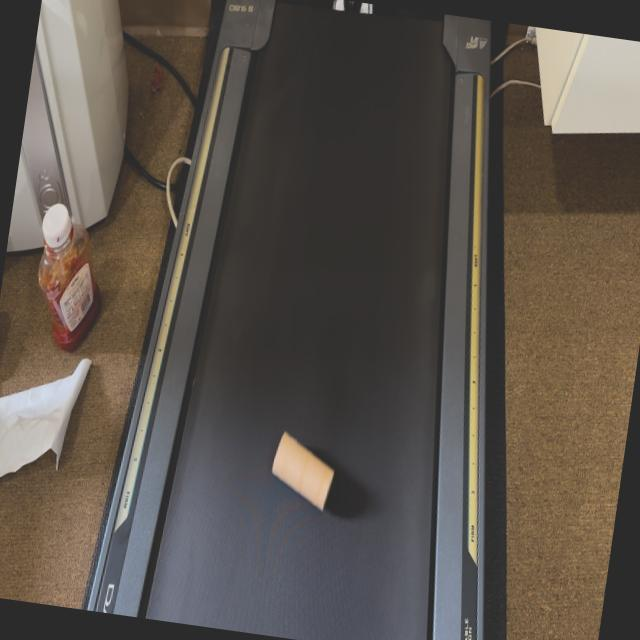Recycle: (264, 424, 346, 509)
